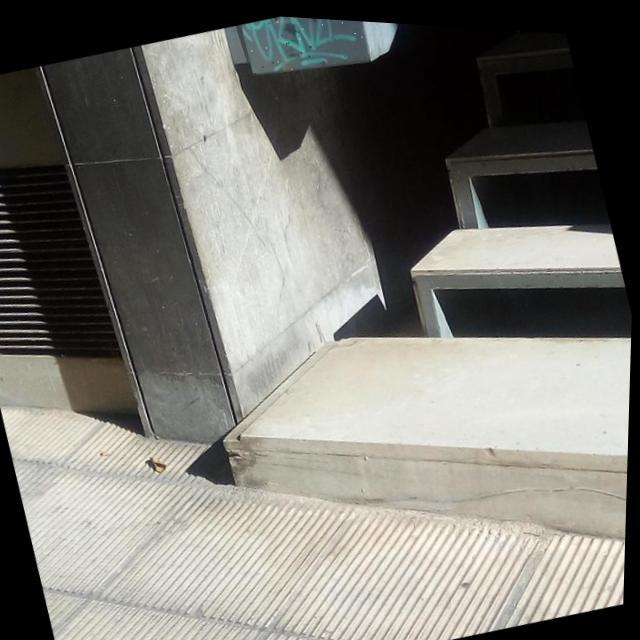-: (240, 11, 371, 80)
